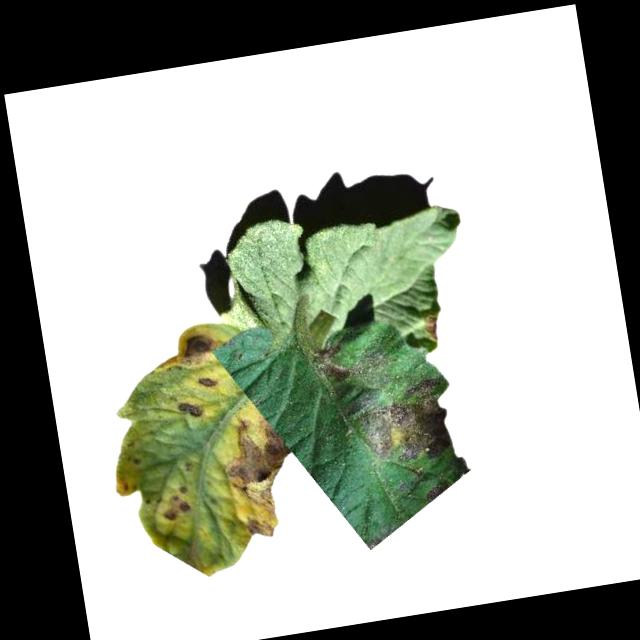Early_blight: (216, 410, 304, 543), (344, 372, 457, 468), (309, 341, 354, 384), (175, 326, 221, 361), (155, 481, 192, 521), (173, 397, 201, 420), (422, 311, 441, 341), (198, 373, 218, 388)
